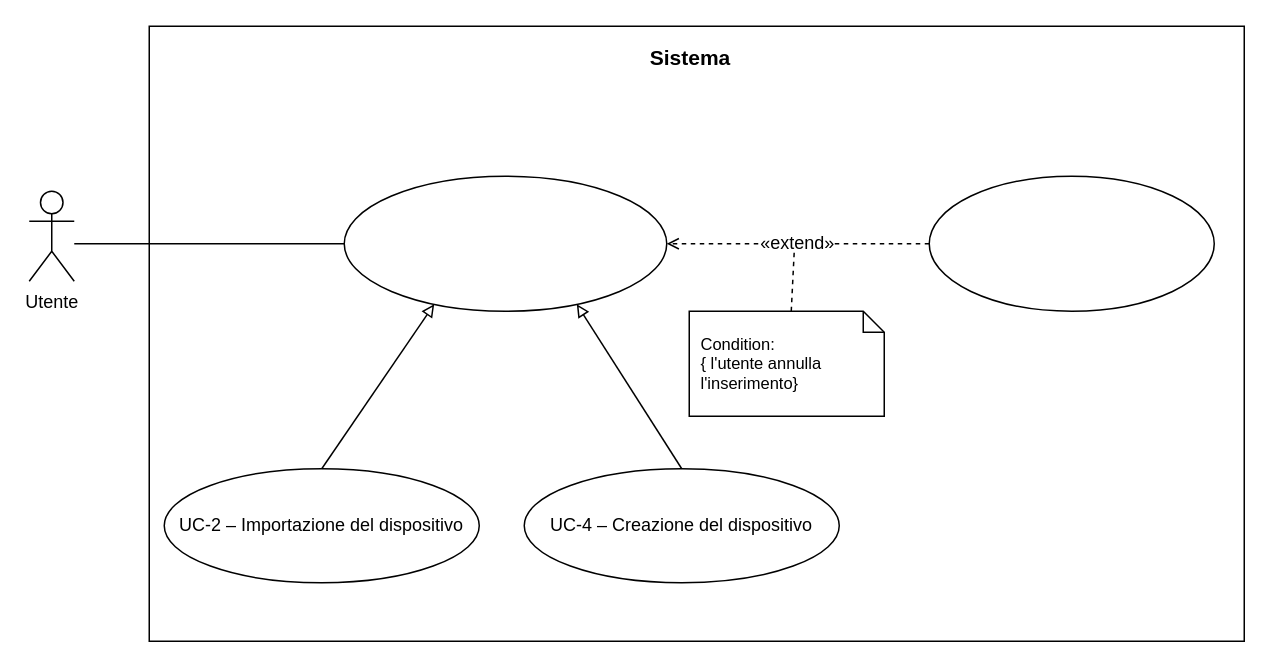
The diagram is 1271 pixels wide and 668 high, and some of its shapes have lost their labels. The box of each missing label's shape, as (x1, y1, x2, y2) in pixels:
UC-1 – Inserimento del dispositivo: (343, 175, 667, 311)
UC-6 – Annullamento inserimento del dispositivo: (928, 175, 1214, 311)
